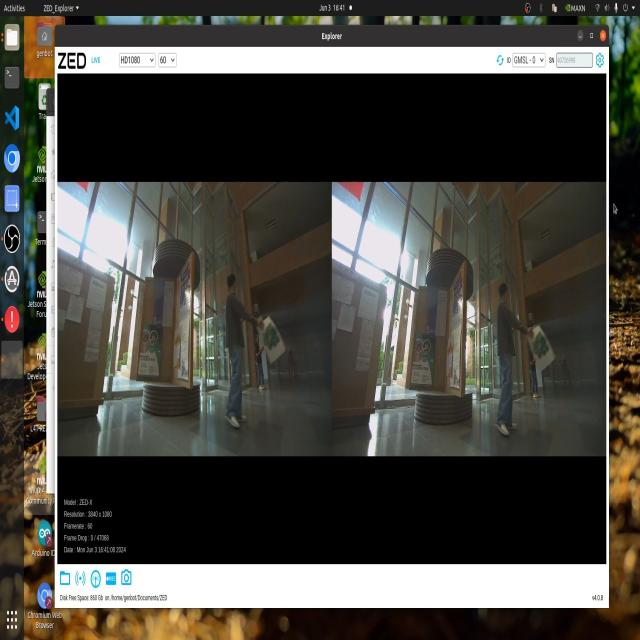green: (262, 320, 287, 365), (527, 326, 550, 373)
